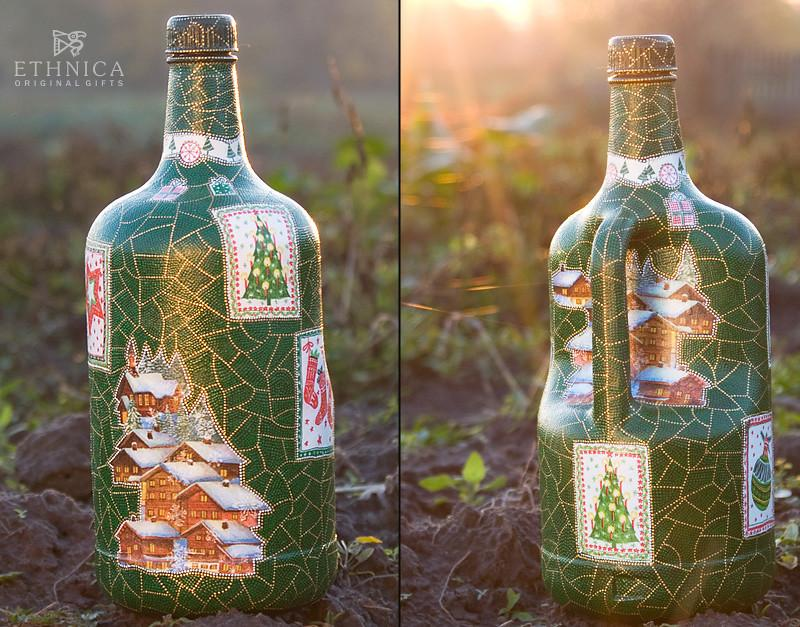bottle: (85, 14, 340, 619), (537, 34, 777, 624)
